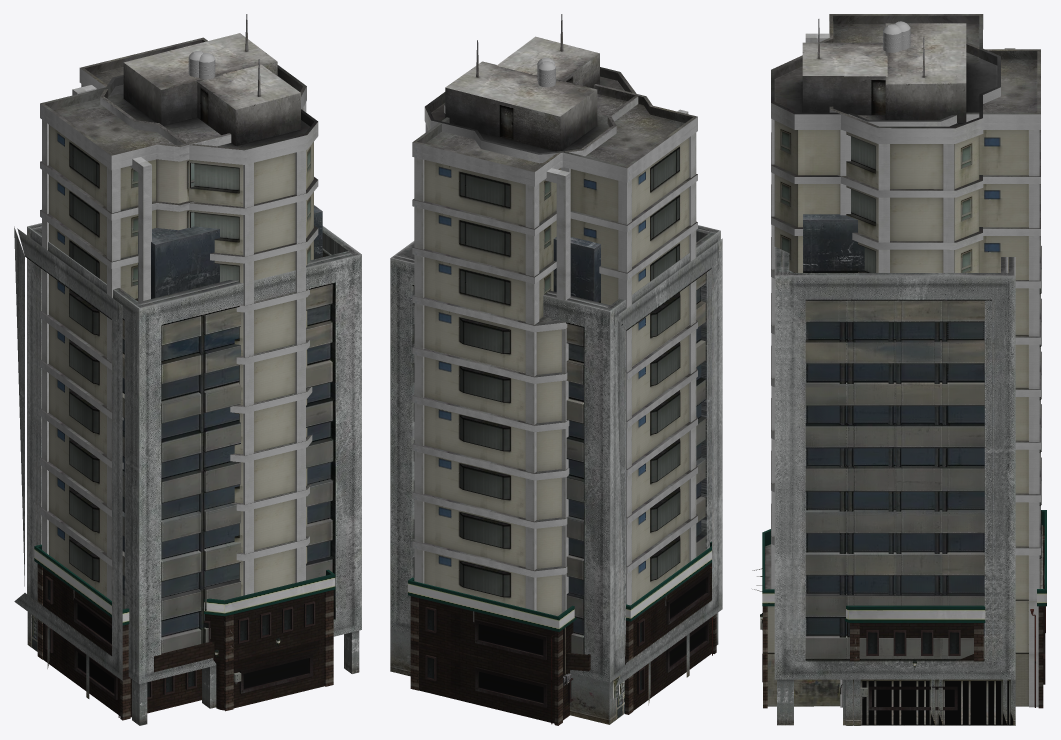
File: bld_res.glb
The picture shows the model from 3 angles, left to right: view 1: azimuth 30°, elevation 25°; view 2: azimuth 150°, elevation 25°; view 3: azimuth 270°, elevation 25°; orthographic projection. The views are drawn at different scales.
Visible parts, largest first — view 1: res_04, res_02, res_03, res_01; view 2: res_03, res_04, res_01, res_02; view 3: res_01, res_02, res_03, res_04.
Boxes of the visible parts, x1=… form: res_04: x1=14, y1=14, x2=306, y2=720; res_02: x1=30, y1=205, x2=361, y2=725; res_03: x1=72, y1=37, x2=335, y2=711; res_01: x1=27, y1=223, x2=355, y2=722; res_03: x1=408, y1=14, x2=638, y2=725; res_04: x1=424, y1=40, x2=722, y2=714; res_01: x1=390, y1=228, x2=717, y2=724; res_02: x1=394, y1=225, x2=720, y2=721; res_01: x1=782, y1=214, x2=1015, y2=725; res_02: x1=774, y1=214, x2=1007, y2=725; res_03: x1=752, y1=19, x2=1046, y2=708; res_04: x1=805, y1=14, x2=1000, y2=724.
Size of the model in its own units: 11.87 by 29.15 by 11.75.
15 materials, 13 textured.
